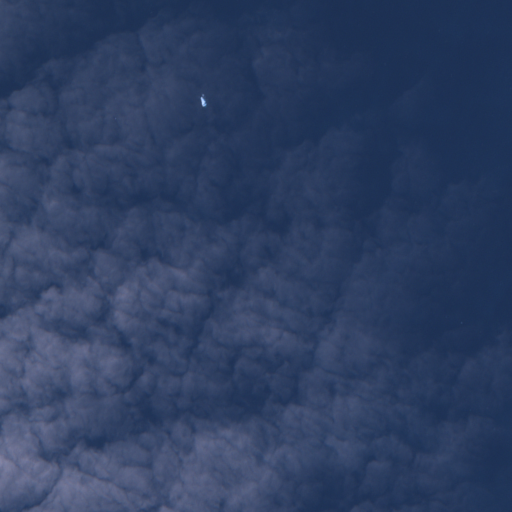Iceberg: (200, 94, 206, 106)
